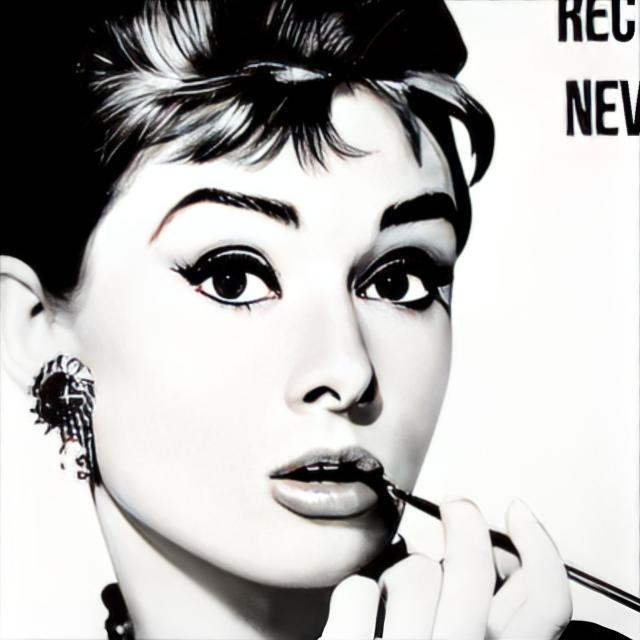surprise: (70, 70, 461, 592)
